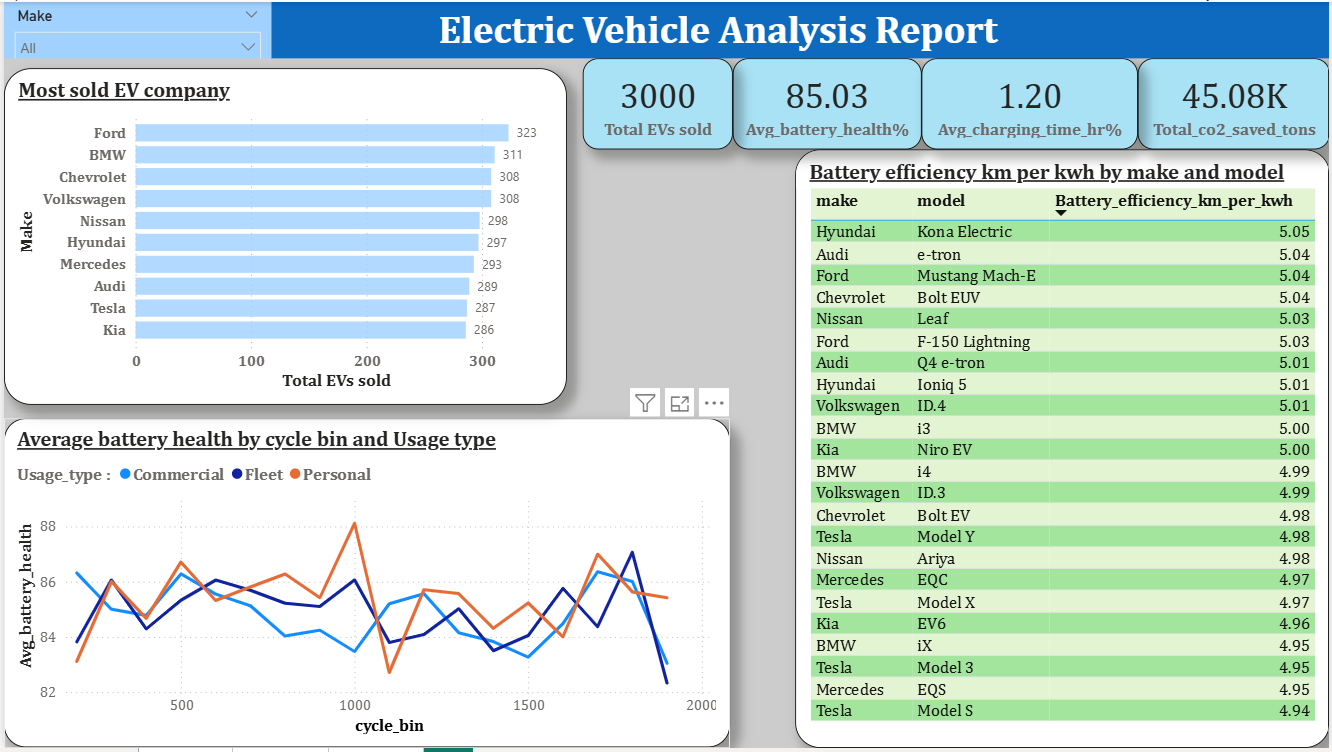

What the dashboard file says about the page in this screenshot:
{"tool":"powerbi","page":{"name":"Page 1","canvas":[1280,720],"ordinal":0},"visuals":[{"type":"tableEx","title":"Battery efficiency km per kwh by make and model","fields":{"Values":["Query1.make","Query1.model","Sum(Query1.battery_efficiency_km_per_kwh)"]},"box":[763.7,142.4,516.4,577.9],"z":0},{"type":"lineChart","title":"Average battery health by cycle bin and Usage type","fields":{"Category":["Query3_1.cycle_bin"],"Y":["Sum(Query3_1.avg_battery_health)"],"Series":["Query3_1.usage_type"]},"box":[0,402.3,700.7,317.9],"z":1000},{"type":"slicer","fields":{"Values":["KPI_1.Make"]},"box":[0,0,258.2,54.3],"z":2000},{"type":"clusteredBarChart","title":"Most sold EV company","fields":{"Category":["KPI_1.Make"],"Y":["Sum(KPI_1.total_vehicles)"]},"box":[0,63.9,542.9,324.5],"z":3000},{"type":"card","title":"Total co2 saved ","fields":{"Values":["Sum(KPI_3.total_co2_saved_tons)"]},"box":[1094.2,54.3,185.8,88.1],"z":4000},{"type":"card","title":"Average battery health by make","fields":{"Values":["Avg(KPI_2.avg_battery_health)"]},"box":[703.4,54.3,182.2,88.1],"z":5000},{"type":"card","title":"Average charging time per hour","fields":{"Values":["Avg(KPI_4.avg_charging_time_hr)"]},"box":[885.5,54.3,208.7,88.1],"z":6000},{"type":"card","title":"Most sold EV company","fields":{"Values":["Sum(KPI_1.total_vehicles)"]},"box":[558.6,54.3,144.8,88.1],"z":7000},{"type":"textbox","box":[258.2,0,1021.9,54.3],"z":8000}]}

Visuals, with their boxes in screenshot pixels (x1, y1, x2, y2), scaled from the page's 1280x720 canvas onto the 1332x752 screenshot:
"Battery efficiency km per kwh by make and model" tableEx: {"left": 795, "top": 149, "right": 1331, "bottom": 751}
"Average battery health by cycle bin and Usage type" lineChart: {"left": 0, "top": 420, "right": 729, "bottom": 751}
slicer - KPI_1.Make: {"left": 0, "top": 0, "right": 269, "bottom": 57}
"Most sold EV company" clusteredBarChart: {"left": 0, "top": 67, "right": 565, "bottom": 406}
"Total co2 saved " card: {"left": 1139, "top": 57, "right": 1331, "bottom": 149}
"Average battery health by make" card: {"left": 732, "top": 57, "right": 922, "bottom": 149}
"Average charging time per hour" card: {"left": 921, "top": 57, "right": 1139, "bottom": 149}
"Most sold EV company" card: {"left": 581, "top": 57, "right": 732, "bottom": 149}
textbox: {"left": 269, "top": 0, "right": 1331, "bottom": 57}
